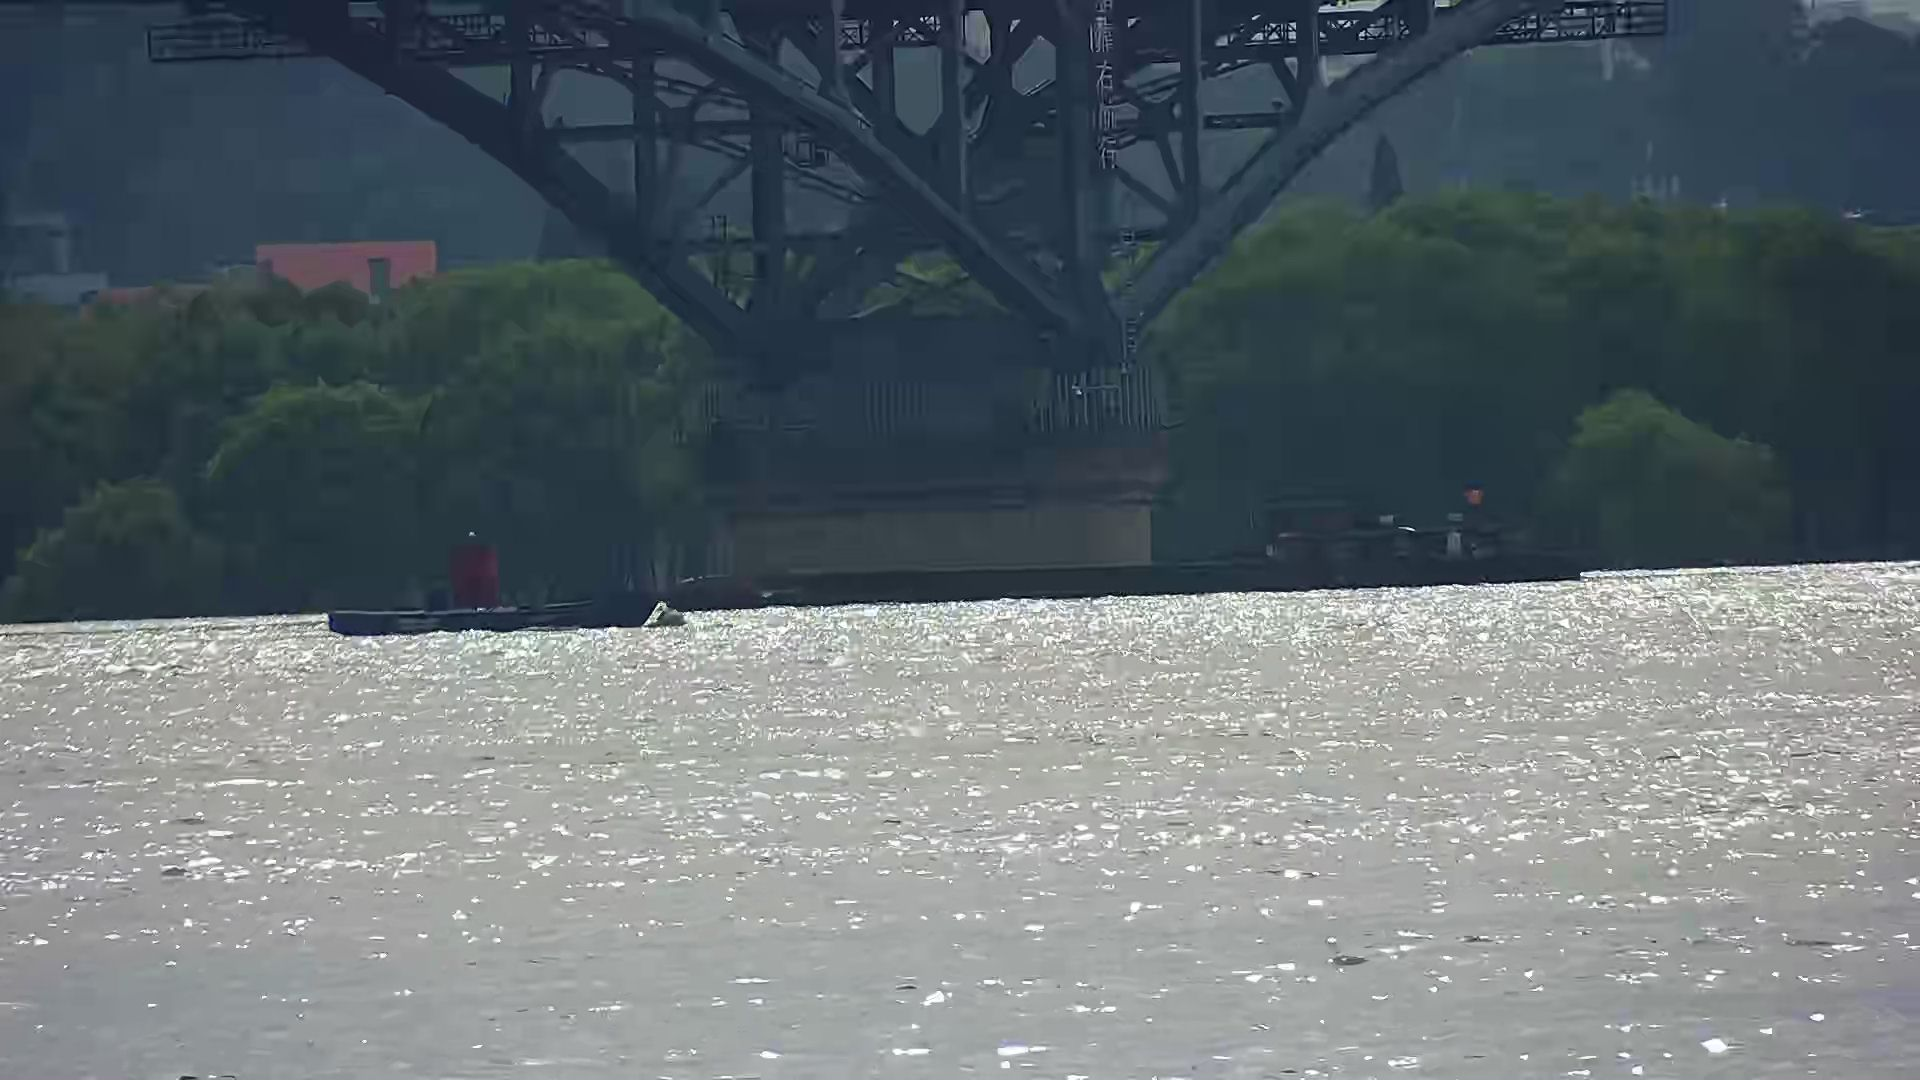boat: (328, 535, 661, 636)
bridge: (146, 3, 1669, 607)
ship: (616, 489, 1585, 607)
